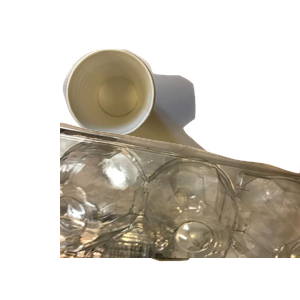glass: (77, 147, 295, 300)
metal: (75, 56, 198, 185)
plastic: (60, 120, 300, 300)
trash: (60, 47, 300, 227)
